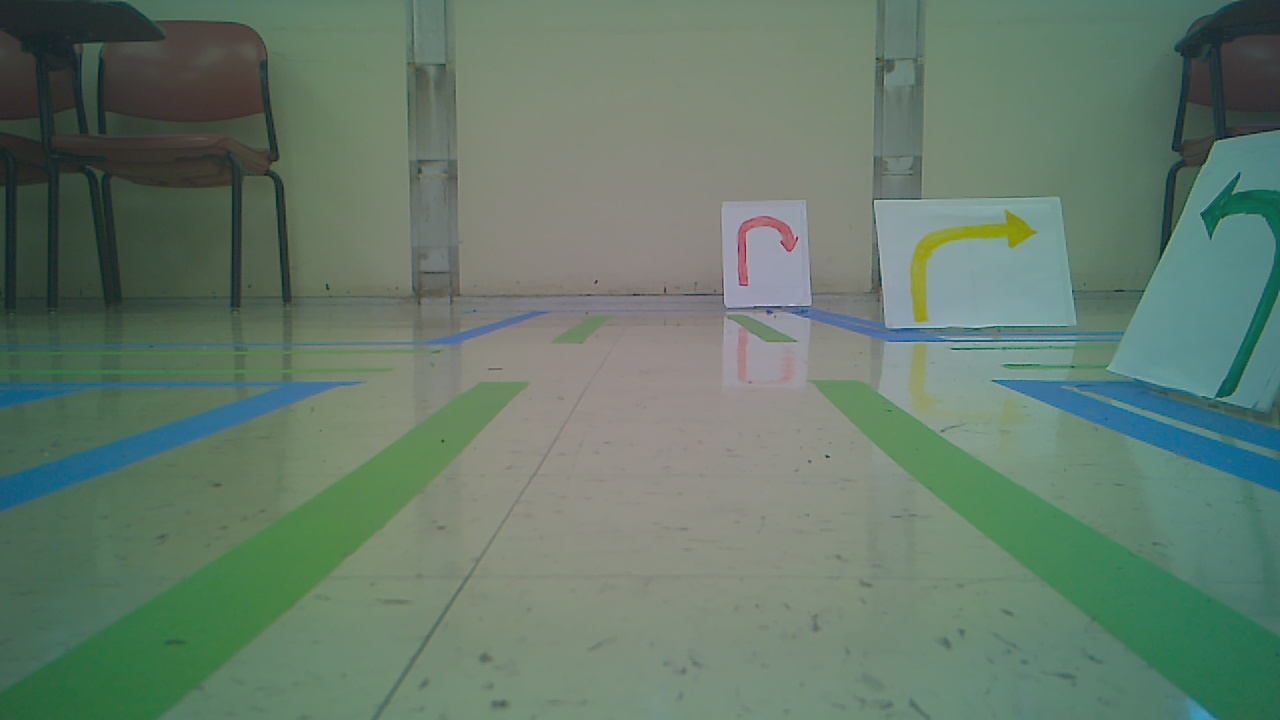greenline: (7, 382, 523, 718), (810, 378, 1242, 720)
left: (1193, 165, 1275, 405)
right: (900, 199, 1045, 320)
uturn: (737, 212, 795, 291)
